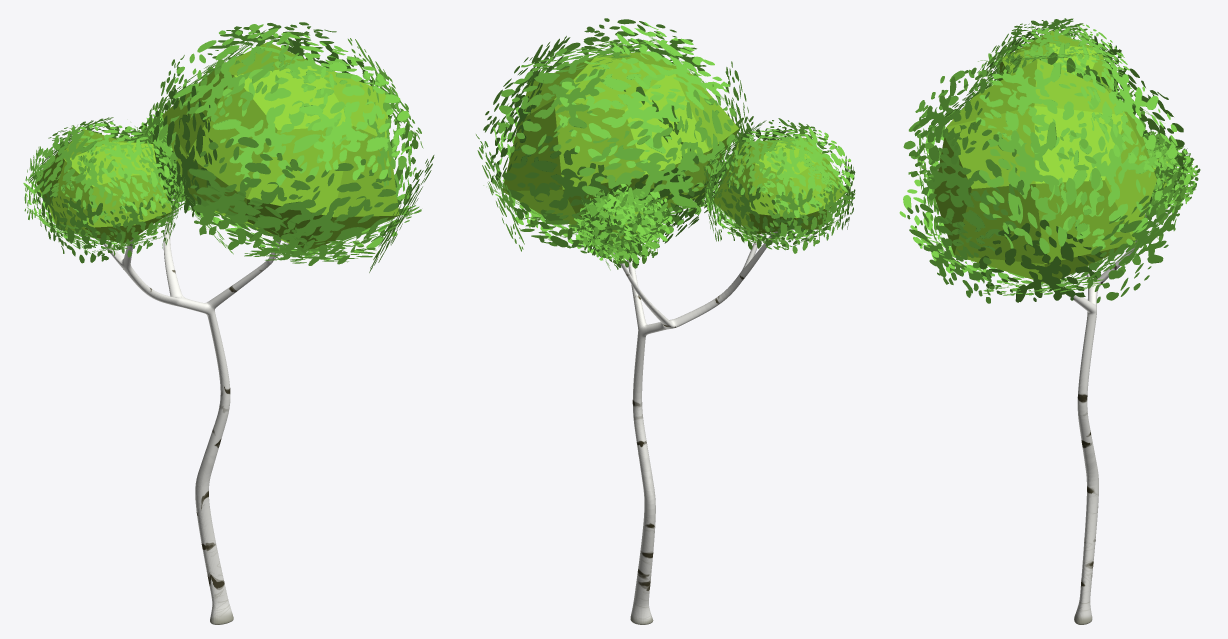
File: birch_tree_lowpoly.fbx
3 views of the same model, side by side, from view 1: azimuth 30°, elevation 25°; view 2: azimuth 150°, elevation 25°; view 3: azimuth 270°, elevation 25° (orthographic). The views are drawn at different scales.
Parts seen in each view (by area): view 1: Cube.002, Cube, Cube.001, Cube.002|random_leaf_2|Dupli|21, Cube.002|random_leaf_2|Dupli|1, Cube.002|random_leaf_2|Dupli|17, Cube.002|random_leaf_2|Dupli|28, Cube.002|random_leaf_2|Dupli|10, Cube.002|random_leaf_2|Dupli|27, Cube.001|random_leaf_2|Dupli|17, Cube.001|random_leaf_2|Dupli|21, Cube.002|random_leaf_2|Dupli|18 (+17 smaller); view 2: Cube.002, Cube, Cube.001, Cube.002|random_leaf_2|Dupli|22, Cube.002|random_leaf_2|Dupli|3, Cube.002|random_leaf_2|Dupli|15, Cube.002|random_leaf_2|Dupli|29, Cube.002|random_leaf_2|Dupli|10, Cube.002|random_leaf_2|Dupli|27, Cube.001|random_leaf_2|Dupli|4, Cube.001|random_leaf_2|Dupli|22, Cube.001|random_leaf_2|Dupli|29 (+19 smaller); view 3: Cube.002, Cube.002|random_leaf_2|Dupli|13, Cube, Cube.002|random_leaf_2|Dupli|8, Cube.002|random_leaf_2|Dupli|6, Cube.002|random_leaf_2|Dupli|18, Cube.002|random_leaf_2|Dupli|25, Cube.002|random_leaf_2|Dupli|15, Cube.002|random_leaf_2|Dupli|23, Cube.002|random_leaf_2|Dupli|17, Cube.002|random_leaf_2|Dupli|24, Cube.001 (+13 smaller).
Part boxes in pixels (x1,y1,x2,y2): Cube.002: (162, 42, 399, 250); Cube: (99, 199, 288, 624); Cube.001: (36, 129, 172, 242); Cube.002|random_leaf_2|Dupli|21: (188, 137, 315, 256); Cube.002|random_leaf_2|Dupli|1: (212, 61, 347, 185); Cube.002|random_leaf_2|Dupli|17: (299, 58, 411, 180); Cube.002|random_leaf_2|Dupli|28: (280, 159, 398, 265); Cube.002|random_leaf_2|Dupli|10: (173, 24, 299, 122); Cube.002|random_leaf_2|Dupli|27: (152, 85, 217, 216); Cube.001|random_leaf_2|Dupli|17: (101, 138, 173, 216); Cube.001|random_leaf_2|Dupli|21: (50, 197, 121, 263); Cube.002|random_leaf_2|Dupli|18: (257, 33, 376, 87); Cube.002: (502, 52, 738, 224); Cube: (614, 231, 777, 624); Cube.001: (713, 137, 845, 234); Cube.002|random_leaf_2|Dupli|22: (579, 120, 701, 234); Cube.002|random_leaf_2|Dupli|3: (558, 58, 685, 167); Cube.002|random_leaf_2|Dupli|15: (497, 48, 605, 154); Cube.002|random_leaf_2|Dupli|29: (502, 136, 608, 247); Cube.002|random_leaf_2|Dupli|10: (613, 22, 729, 109); Cube.002|random_leaf_2|Dupli|27: (672, 84, 738, 212); Cube.001|random_leaf_2|Dupli|4: (760, 146, 830, 217); Cube.001|random_leaf_2|Dupli|22: (765, 188, 831, 253); Cube.001|random_leaf_2|Dupli|29: (720, 182, 781, 249); Cube.002: (934, 59, 1156, 283); Cube.002|random_leaf_2|Dupli|13: (979, 121, 1104, 253); Cube: (1061, 198, 1152, 624); Cube.002|random_leaf_2|Dupli|8: (1048, 116, 1161, 248); Cube.002|random_leaf_2|Dupli|6: (921, 122, 1024, 251); Cube.002|random_leaf_2|Dupli|18: (976, 62, 1100, 153); Cube.002|random_leaf_2|Dupli|25: (978, 219, 1102, 302); Cube.002|random_leaf_2|Dupli|15: (1080, 61, 1177, 171); Cube.002|random_leaf_2|Dupli|23: (1087, 195, 1180, 303); Cube.002|random_leaf_2|Dupli|17: (909, 67, 989, 182); Cube.002|random_leaf_2|Dupli|24: (907, 203, 1001, 303); Cube.001: (998, 30, 1113, 92).
Bounding box in the file's own units: 1188 × 1800 × 891.
